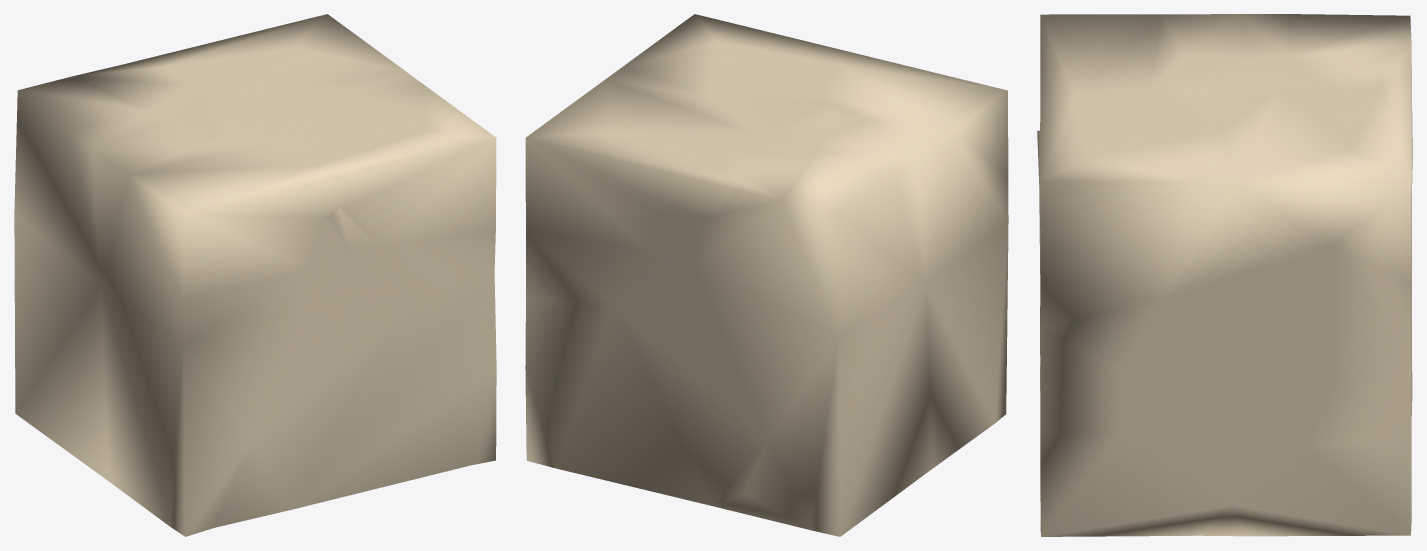
3 renders of one model, left to right at view 1: azimuth 30°, elevation 25°; view 2: azimuth 150°, elevation 25°; view 3: azimuth 270°, elevation 25°, orthographic. The views are drawn at different scales.
Parts seen in each view (by area): view 1: tripo_node_0a185a21-324d-4704-a7df-7859c0794eb1; view 2: tripo_node_0a185a21-324d-4704-a7df-7859c0794eb1; view 3: tripo_node_0a185a21-324d-4704-a7df-7859c0794eb1.
Boxes of the visible parts, x1,y1,x2,y2 form: tripo_node_0a185a21-324d-4704-a7df-7859c0794eb1: [14, 14, 496, 536]; tripo_node_0a185a21-324d-4704-a7df-7859c0794eb1: [525, 14, 1008, 536]; tripo_node_0a185a21-324d-4704-a7df-7859c0794eb1: [1037, 14, 1412, 536].
Size of the model in its own units: 0.9973 by 1 by 0.942.
1 material, 1 textured.
